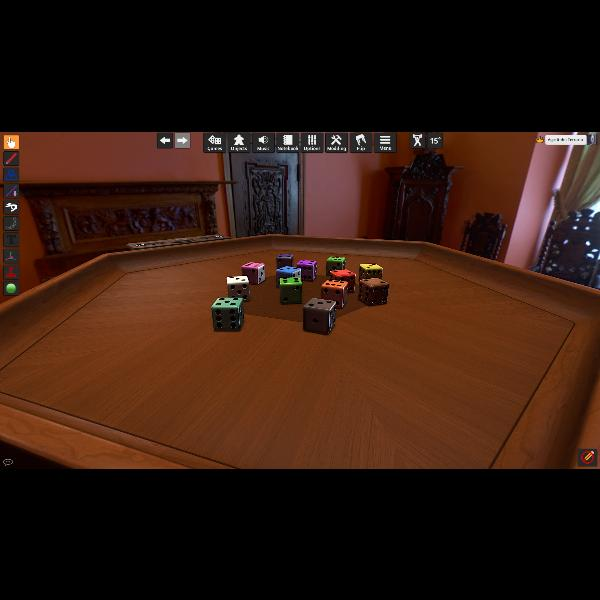d6: (210, 297, 244, 331), (303, 298, 333, 334), (358, 278, 390, 306), (321, 280, 346, 308), (227, 274, 251, 301), (329, 268, 355, 292), (280, 278, 302, 304), (241, 262, 265, 284), (276, 266, 300, 288), (296, 259, 316, 281), (326, 256, 346, 276), (360, 263, 382, 281), (276, 253, 294, 271)
